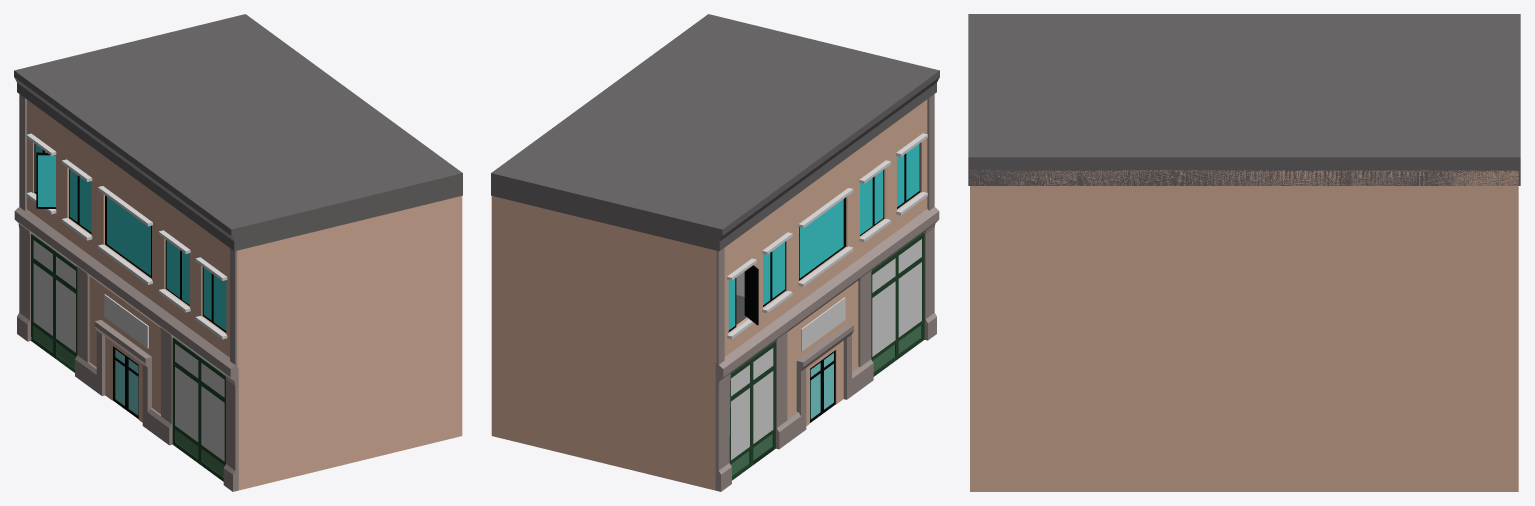
File: Residential building.fbx
3 renders of one model, left to right at view 1: azimuth 30°, elevation 25°; view 2: azimuth 150°, elevation 25°; view 3: azimuth 270°, elevation 25°, orthographic. The views are drawn at different scales.
Visible parts, largest first — view 1: Cube, Cube.025, Cube.026, Cube.007, Cube.023, Cube.018, Cube.020, Cube.016, Cube.014, Cube.004, Cube.001, Cube.002; view 2: Cube, Cube.025, Cube.026, Cube.007, Cube.023, Cube.018, Cube.020, Cube.016, Cube.004, Cube.014, Cube.001, Cube.002; view 3: Cube, Cube.025.
Boxes of the visible parts, x1,y1,x2,y2 form: Cube: (14, 94, 462, 491); Cube.025: (14, 14, 462, 251); Cube.026: (33, 240, 224, 461); Cube.007: (26, 133, 227, 339); Cube.023: (105, 195, 151, 278); Cube.018: (165, 240, 189, 306); Cube.020: (202, 267, 226, 332); Cube.016: (69, 169, 91, 234); Cube.014: (36, 152, 55, 208); Cube.004: (104, 294, 148, 348); Cube.001: (112, 346, 126, 409); Cube.002: (126, 356, 138, 418); Cube: (491, 94, 939, 491); Cube.025: (491, 14, 939, 251); Cube.026: (731, 239, 921, 460); Cube.007: (727, 133, 927, 339); Cube.023: (799, 197, 845, 280); Cube.018: (860, 170, 883, 235); Cube.020: (897, 143, 920, 208); Cube.016: (763, 242, 785, 306); Cube.004: (801, 297, 845, 351); Cube.014: (744, 265, 758, 325); Cube.001: (810, 359, 822, 422); Cube.002: (823, 350, 835, 413); Cube: (970, 170, 1518, 491); Cube.025: (968, 14, 1520, 185).
Bounding box in the file's own units: 2261 × 2411 × 3570.
